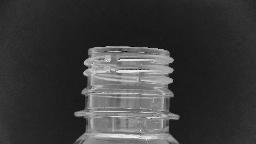No Cap: (70, 38, 184, 124)
